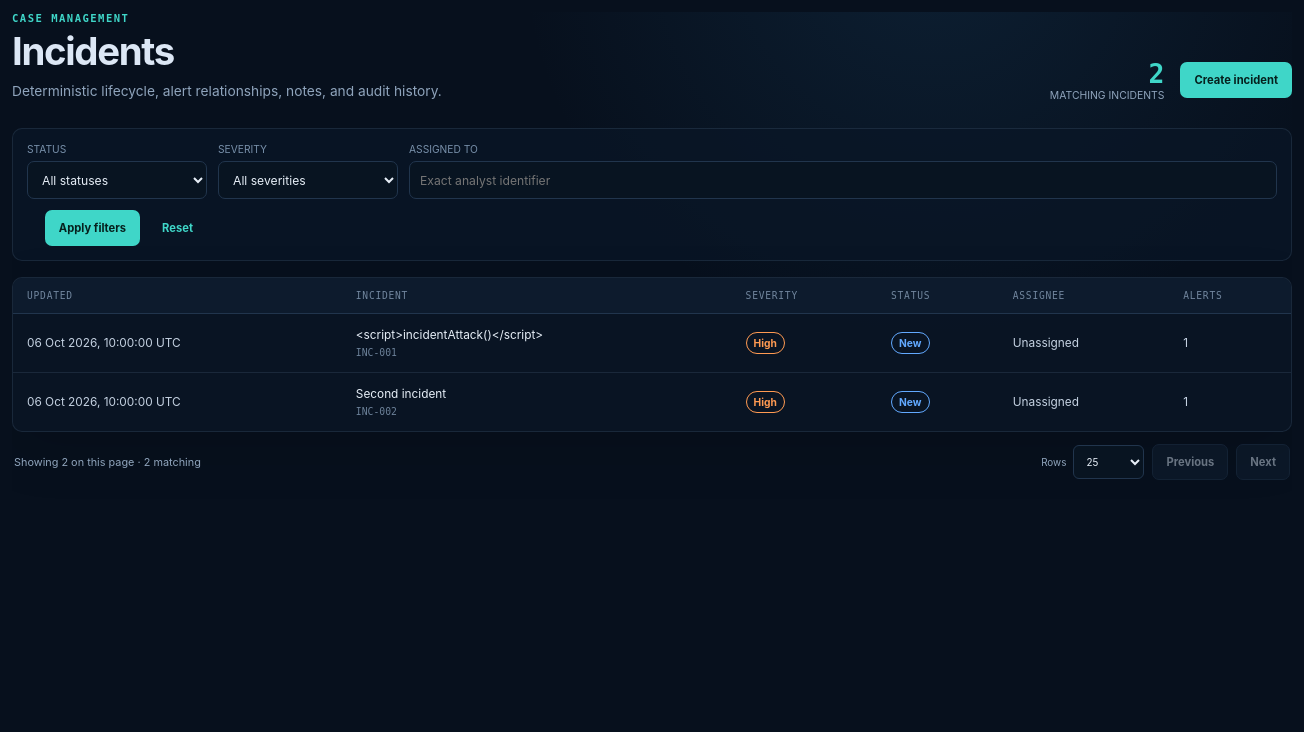
Test: IncidentsPage › does not let a late mutation response replace a newly selected incident
Click the button "<script>incidentAttack()</script>" at (450, 336), box [356, 328, 543, 342]
(page scrolled)
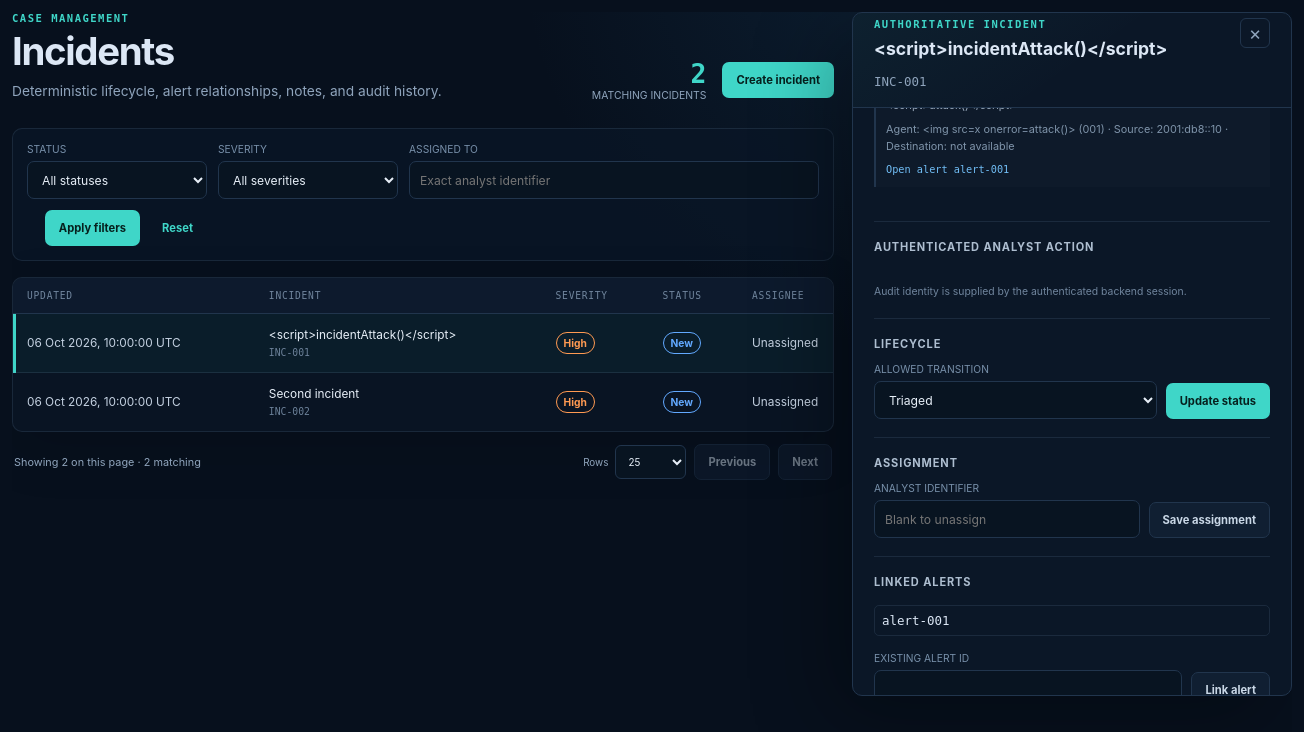
Click the button "Update status" at (1218, 401), box [1166, 383, 1270, 419]
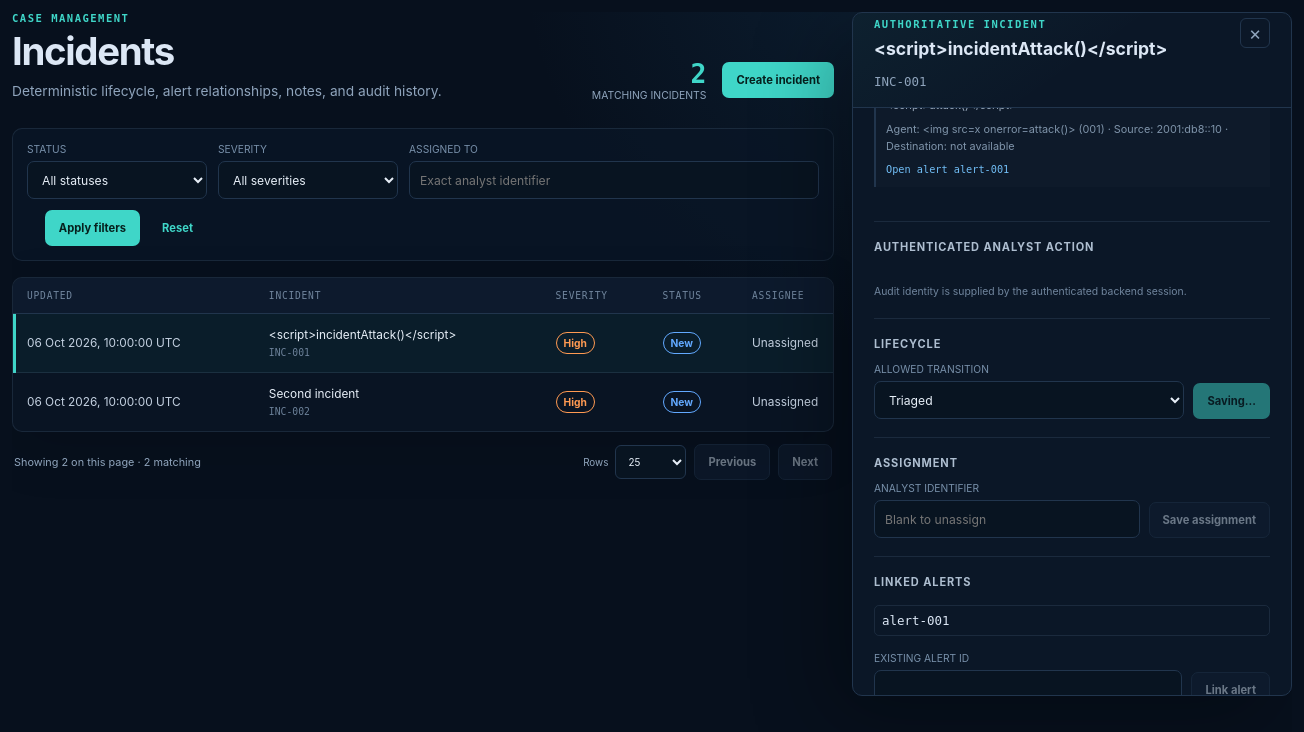
Click the button "Second incident" at (314, 394), box [269, 388, 359, 402]
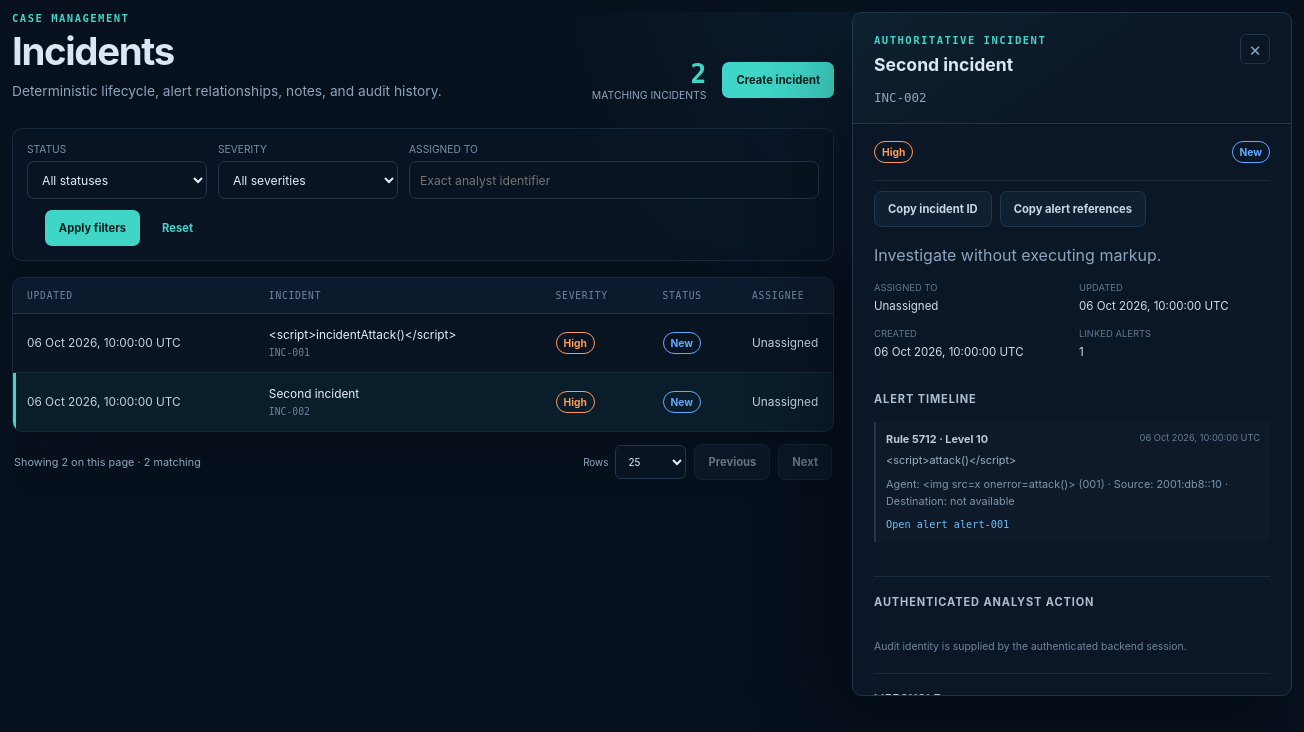
Check: the heading "Second incident" is shown, box [874, 54, 1013, 75]
